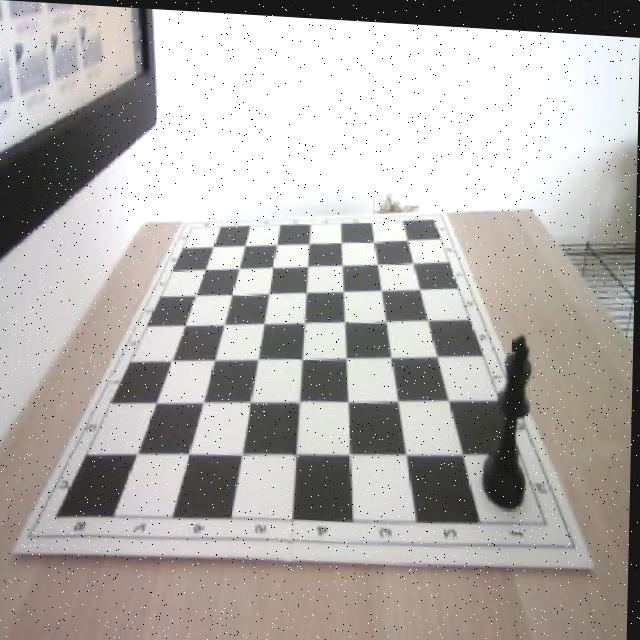black-bishop: (482, 324, 535, 509)
